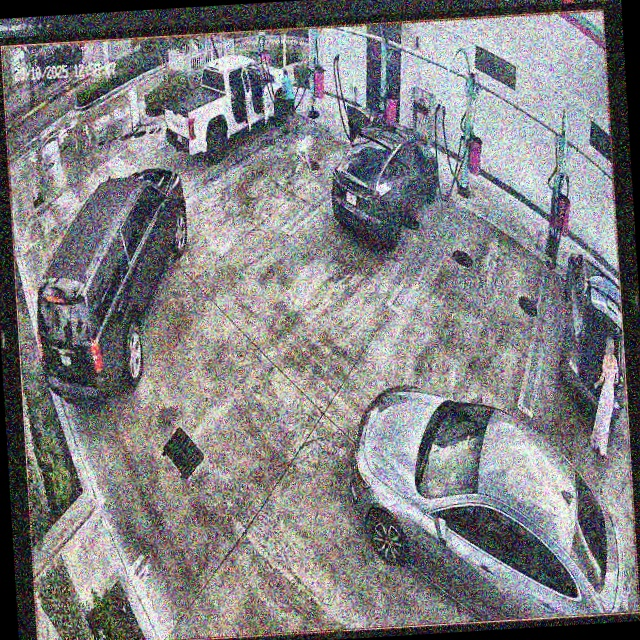Car: (352, 372, 631, 629), (30, 167, 198, 407), (325, 104, 442, 254), (163, 54, 297, 164)
